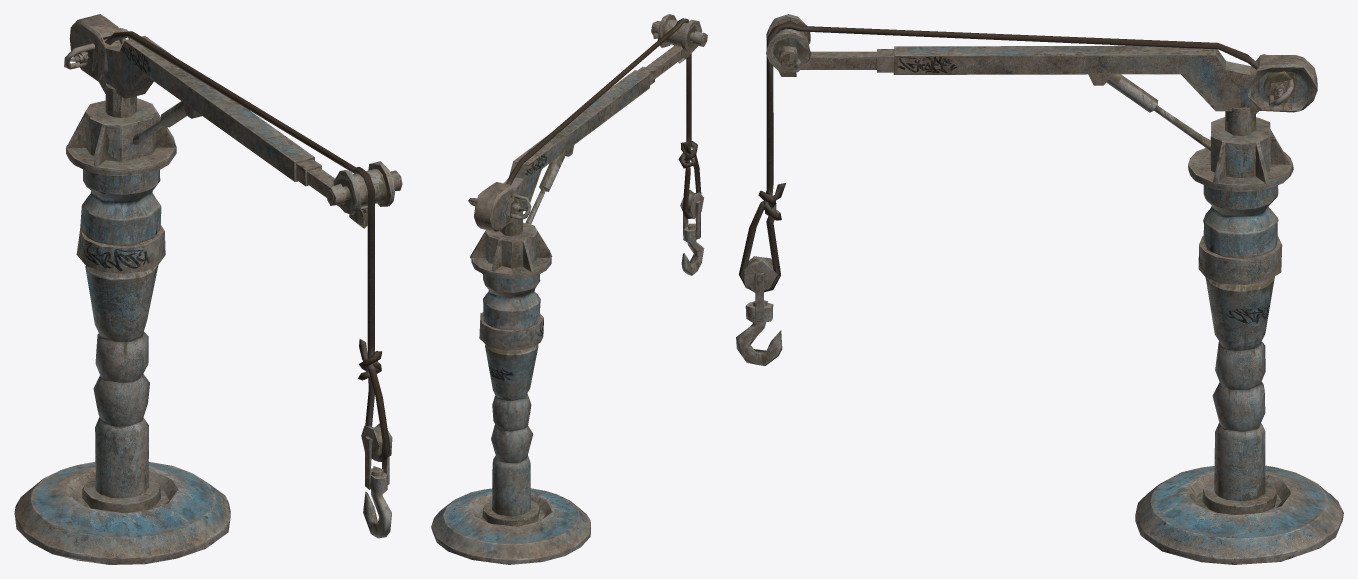
The model's file is SM_Crane_02.fbx.
3 renders of one model, left to right at view 1: azimuth 30°, elevation 25°; view 2: azimuth 150°, elevation 25°; view 3: azimuth 270°, elevation 25°, orthographic. The views are drawn at different scales.
Visible parts, largest first — view 1: SM_Crane_02_LOD0; view 2: SM_Crane_02_LOD0; view 3: SM_Crane_02_LOD0.
Part boxes in pixels (x1=…): SM_Crane_02_LOD0: x1=14, y1=14, x2=402, y2=564; SM_Crane_02_LOD0: x1=431, y1=14, x2=707, y2=564; SM_Crane_02_LOD0: x1=736, y1=14, x2=1343, y2=564.
Size of the model in its own units: 108 by 314 by 286.
1 material, 1 textured.
